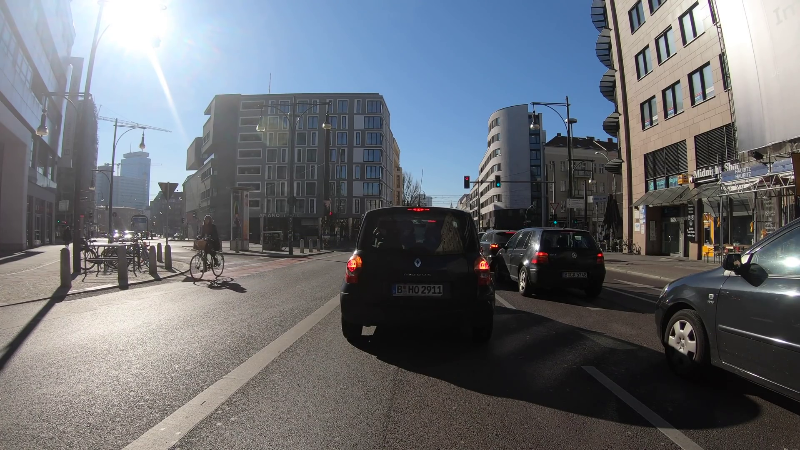Plate: (390, 282, 446, 299), (561, 268, 590, 281)
